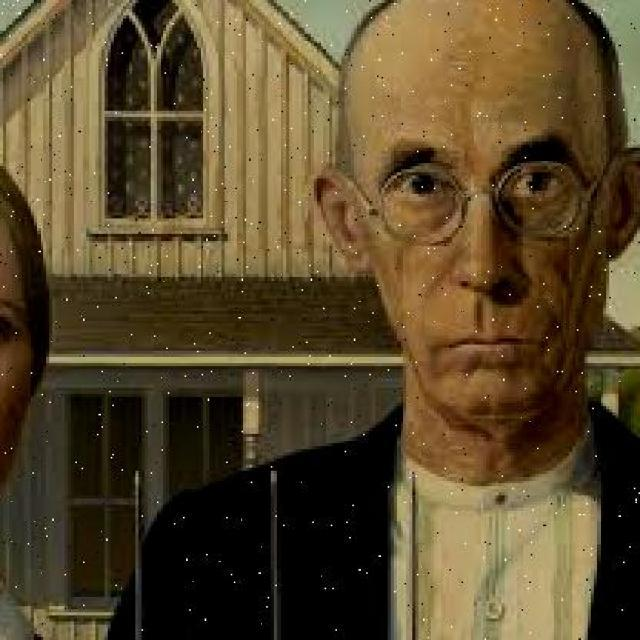glasses: (360, 160, 606, 246)
